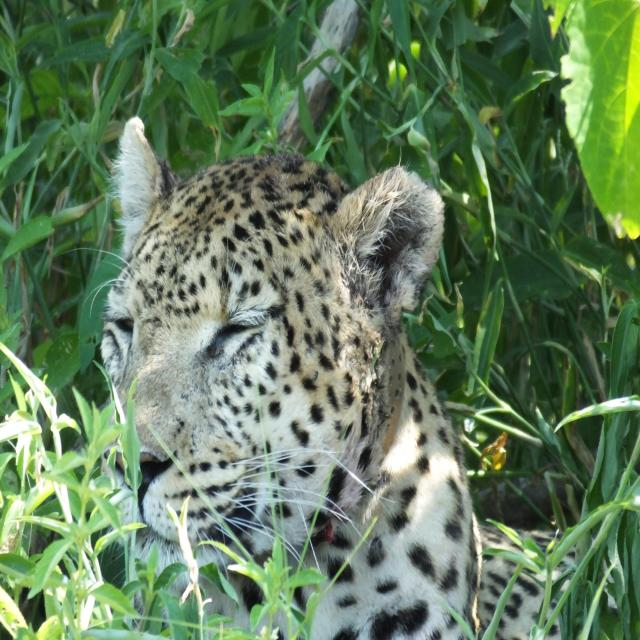Leopard: (84, 114, 640, 640)
